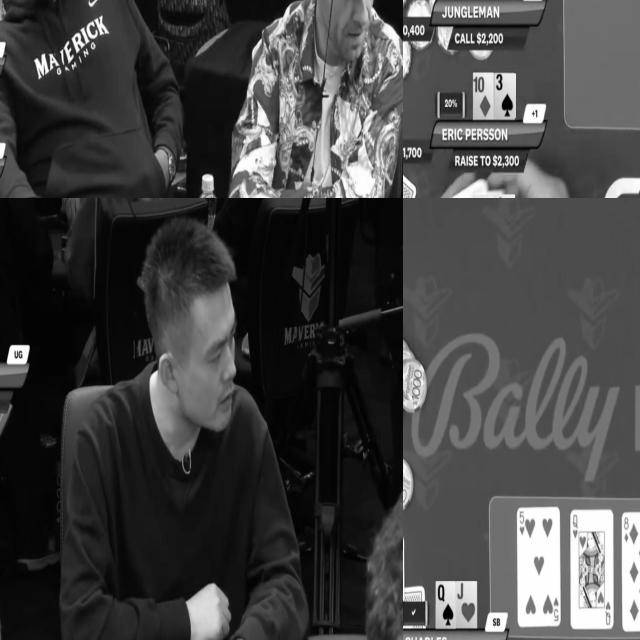10D: (473, 73, 494, 119)
3S: (495, 74, 516, 118)
JH: (456, 581, 478, 629)
QS: (436, 581, 456, 631)
